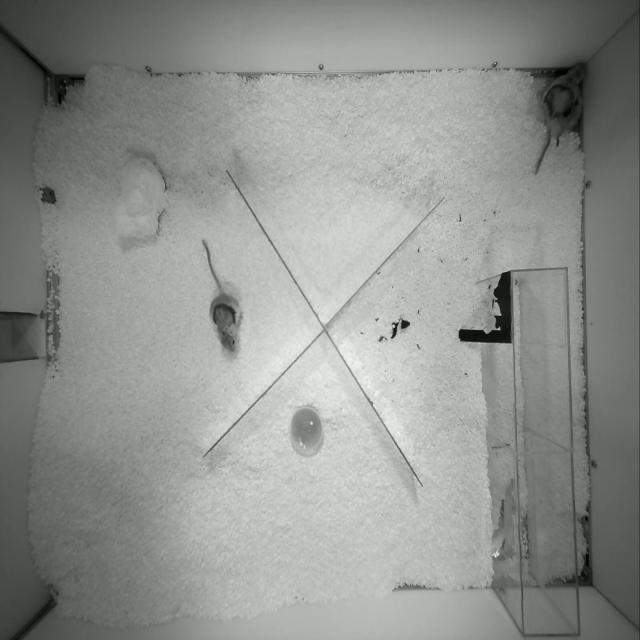adult_front: (202, 239, 242, 351)
